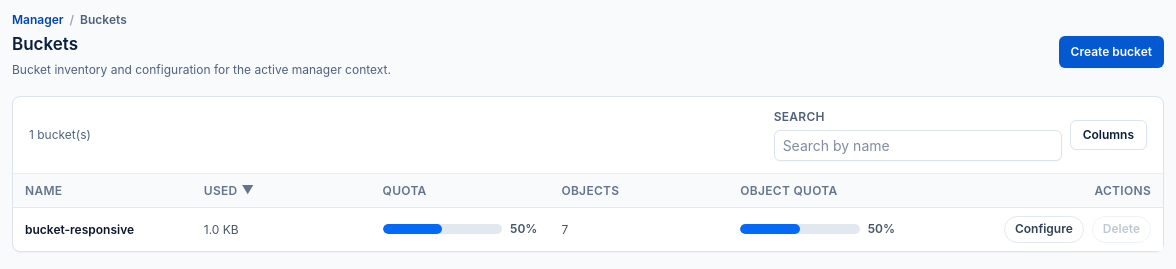
Test: manager shell pages › renders manager buckets through the shared responsive table contract
Expected: the text "bucket-responsive" is shown, [25,222,134,236]
Type "missing" into the search field labelled "Search" at [918, 145], box [774,130,1062,160]
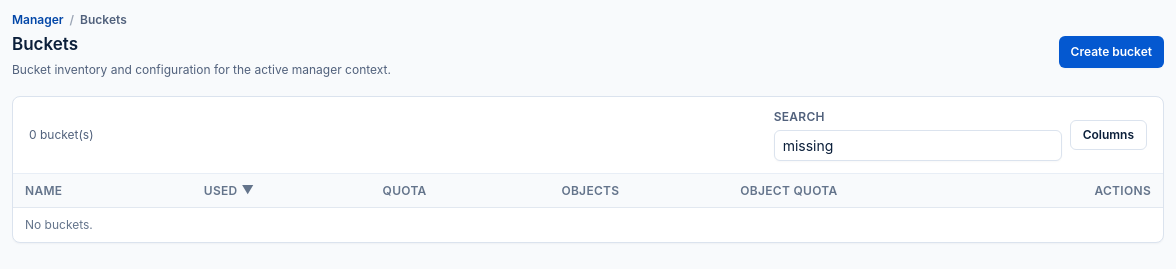
Expected: the text "bucket-responsive" is gone
Replace the text in the search field labelled "Search" with "responsive" at [918, 145], box [774,130,1062,160]
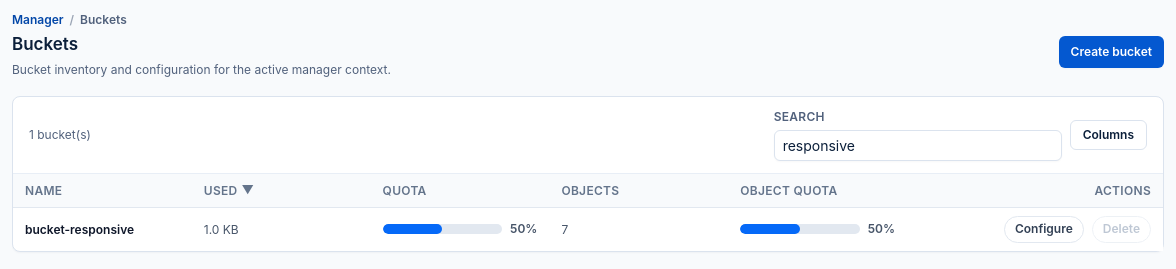
Expected: the text "bucket-responsive" is shown, [25,222,134,236]
